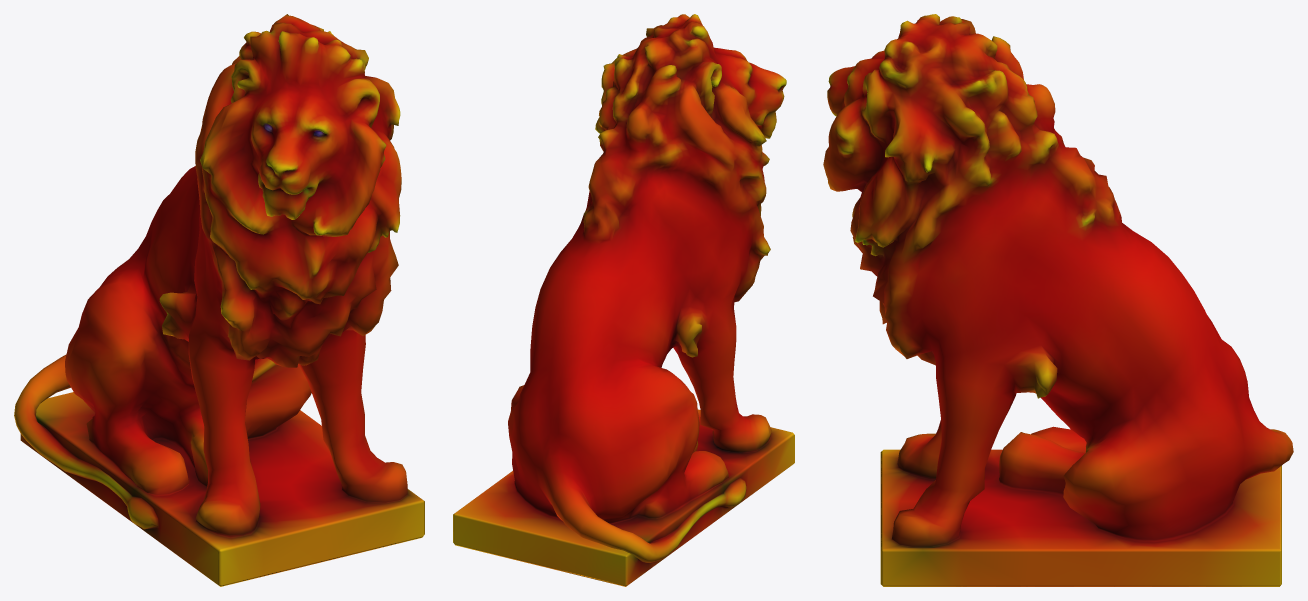
The model's file is Lion.glb.
3 renders of one model, left to right at view 1: azimuth 30°, elevation 25°; view 2: azimuth 150°, elevation 25°; view 3: azimuth 270°, elevation 25°, orthographic. The views are drawn at different scales.
Visible parts, largest first — view 1: Lion; view 2: Lion; view 3: Lion.
Boxes of the visible parts, box(x1,y1,x2,y2) form: Lion: box(14, 14, 424, 586); Lion: box(453, 14, 794, 586); Lion: box(823, 14, 1293, 586).
Bounding box in the file's own units: 0.5745 × 1.22 × 1.
